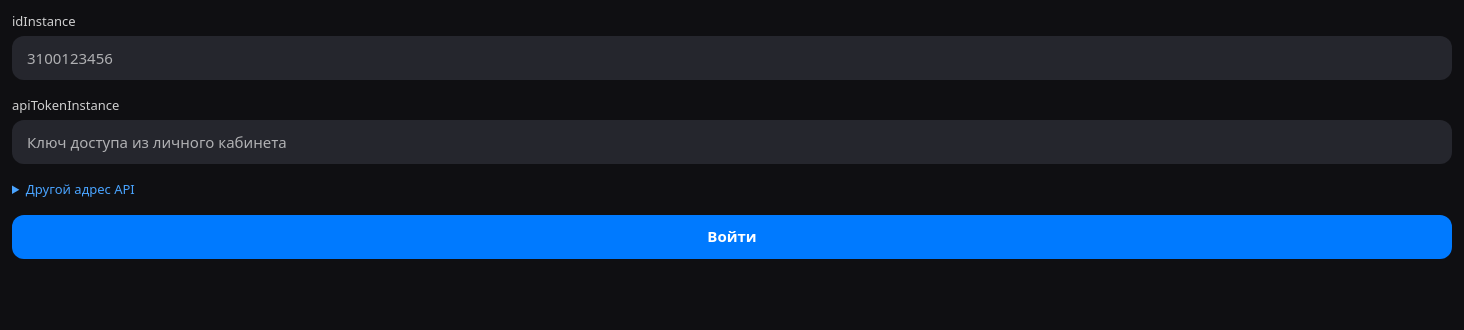
Test: LoginForm › explains no network
Click the field labelled "idInstance" at (732, 58), box top-left (12, 36), bottom-right (1452, 80)
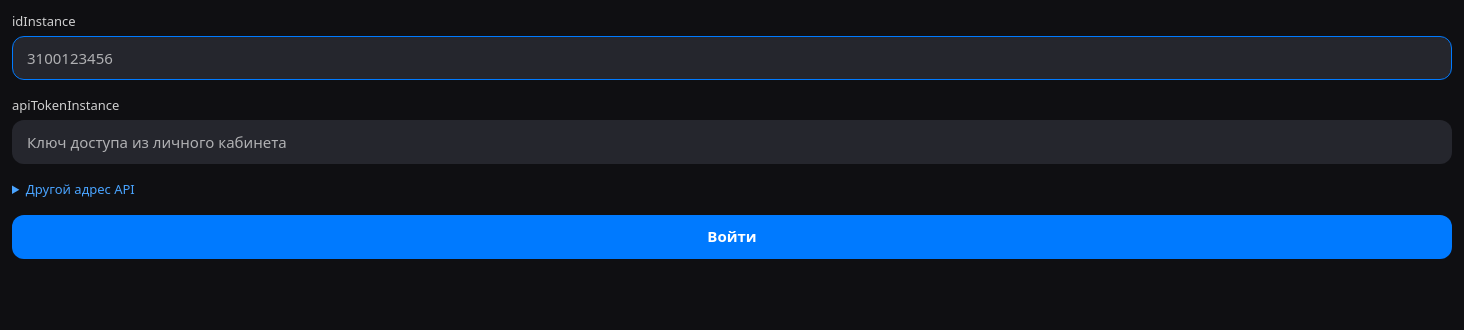
Type keys "3100000001"
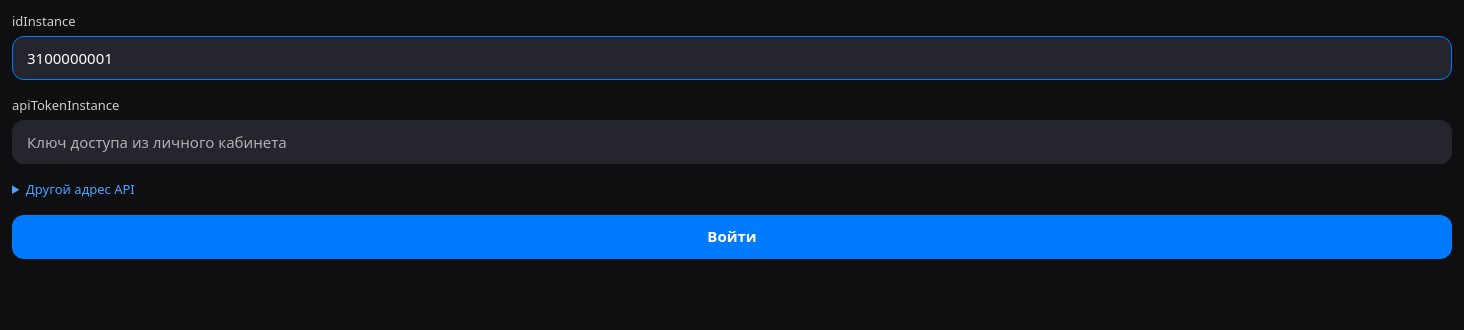
Click the password field labelled "apiTokenInstance" at (732, 142), box top-left (12, 120), bottom-right (1452, 164)
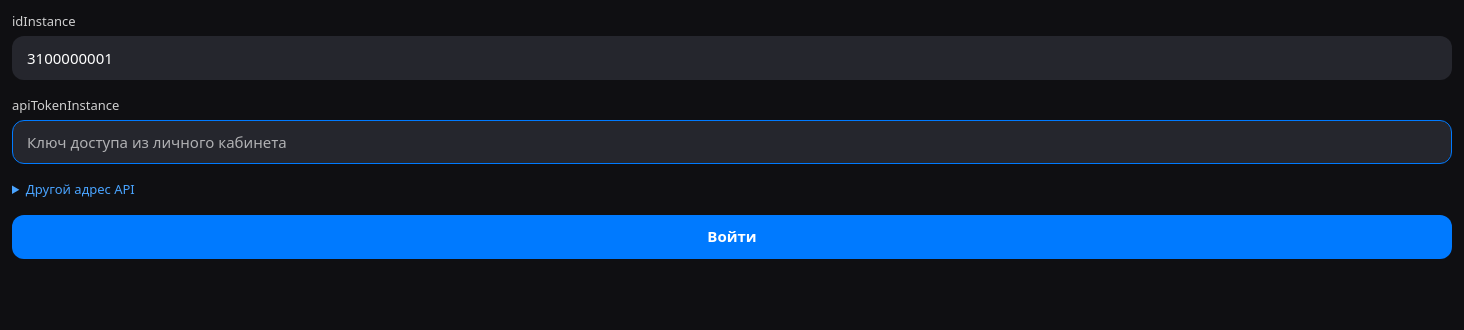
Type keys "d75b3a66374942c5b3c019c698abc2067e151558acbd412345"
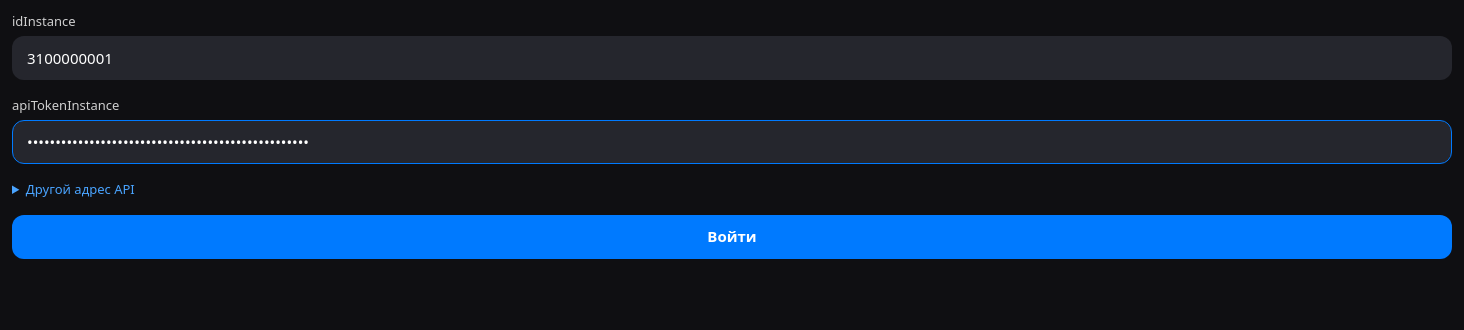
Click the button "Войти" at (732, 237), box top-left (12, 215), bottom-right (1452, 259)
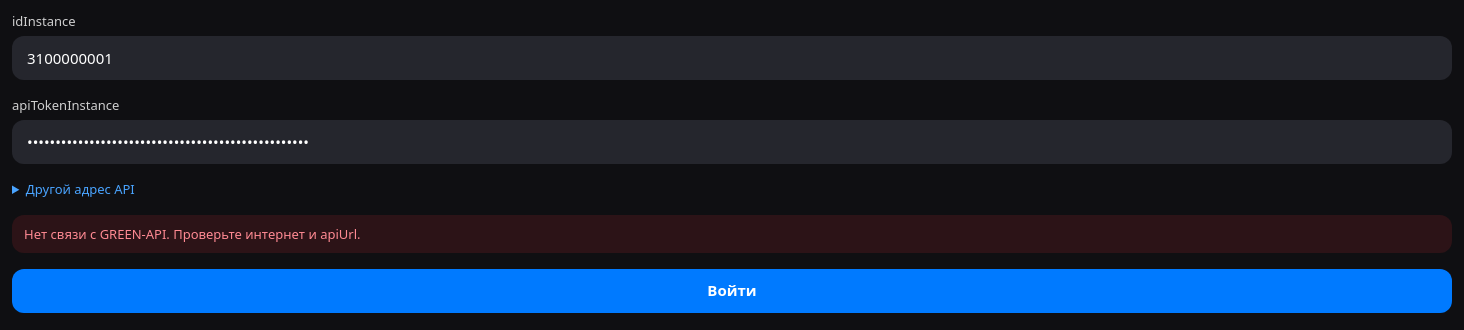
Expected: the button "Войти" is enabled, top-left (12, 269), bottom-right (1452, 313)
Now the message reads "Нет связи с GREEN-API. Проверьте интернет и apiUrl.", box top-left (24, 225), bottom-right (360, 243)
